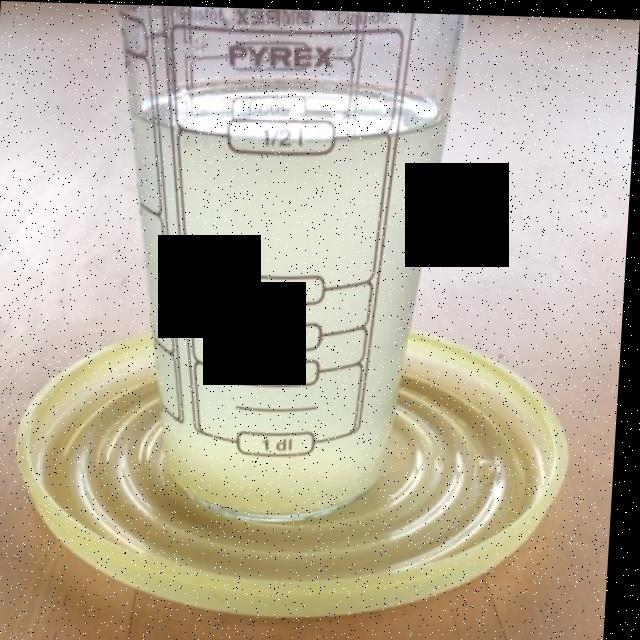water: (143, 75, 435, 509)
